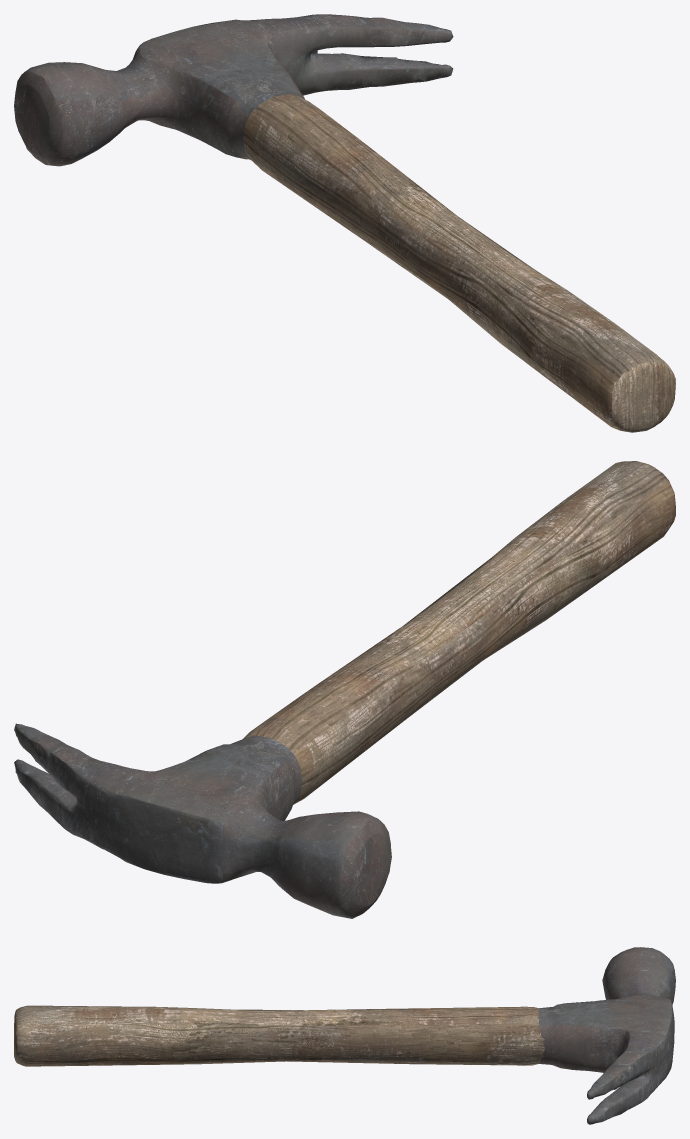
Rendered from SM_Hammer.fbx.
The picture shows the model from 3 angles, top to bottom: view 1: azimuth 30°, elevation 25°; view 2: azimuth 150°, elevation 25°; view 3: azimuth 270°, elevation 25°; orthographic projection. The views are drawn at different scales.
Visible parts, largest first — view 1: SM_Hammer_LOD0; view 2: SM_Hammer_LOD0; view 3: SM_Hammer_LOD0.
Boxes of the visible parts, x1,y1,x2,y2 form: SM_Hammer_LOD0: (14,14,675,432); SM_Hammer_LOD0: (14,461,675,918); SM_Hammer_LOD0: (14,947,675,1124).
Size of the model in its own units: 19.03 by 39.47 by 4.33.
Materials: 2 (2 with a texture image).
